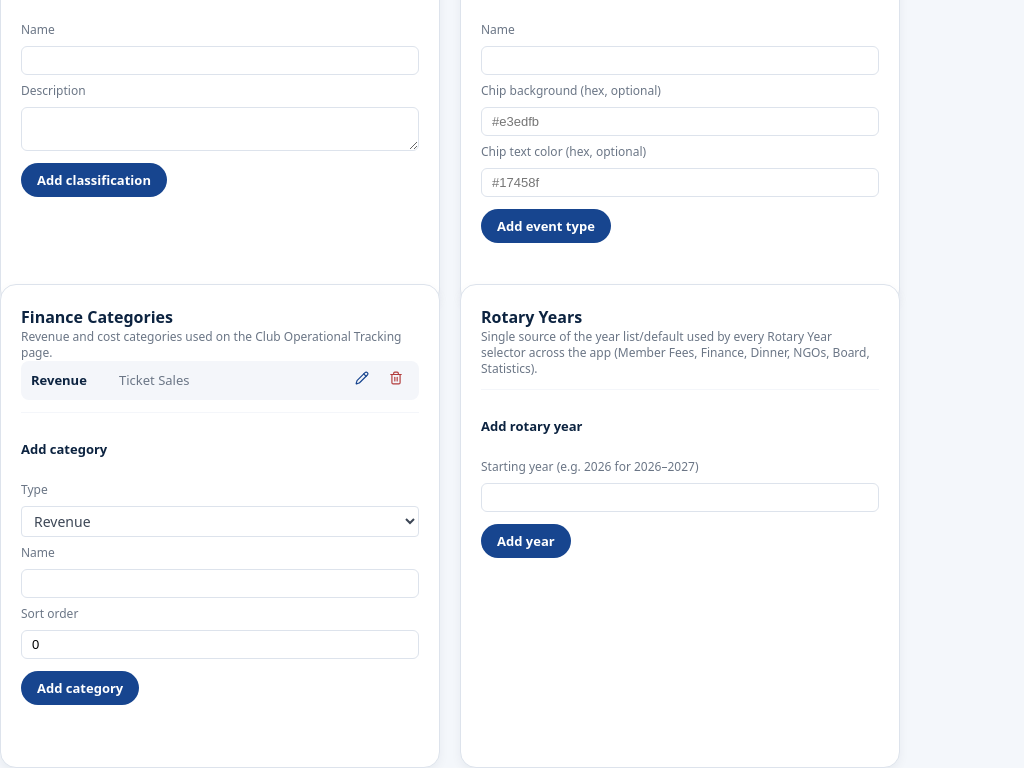
Test: ReferenceLists › Finance Categories card › lists categories and creates a new one
This screenshot has width=1024, height=768.
(page scrolled)
Expected: the text "Ticket Sales" is shown, left=119, top=371, right=190, bottom=389
Select "Cost" in the dropdown labelled "Type" at (220, 522), box left=21, top=506, right=419, bottom=537
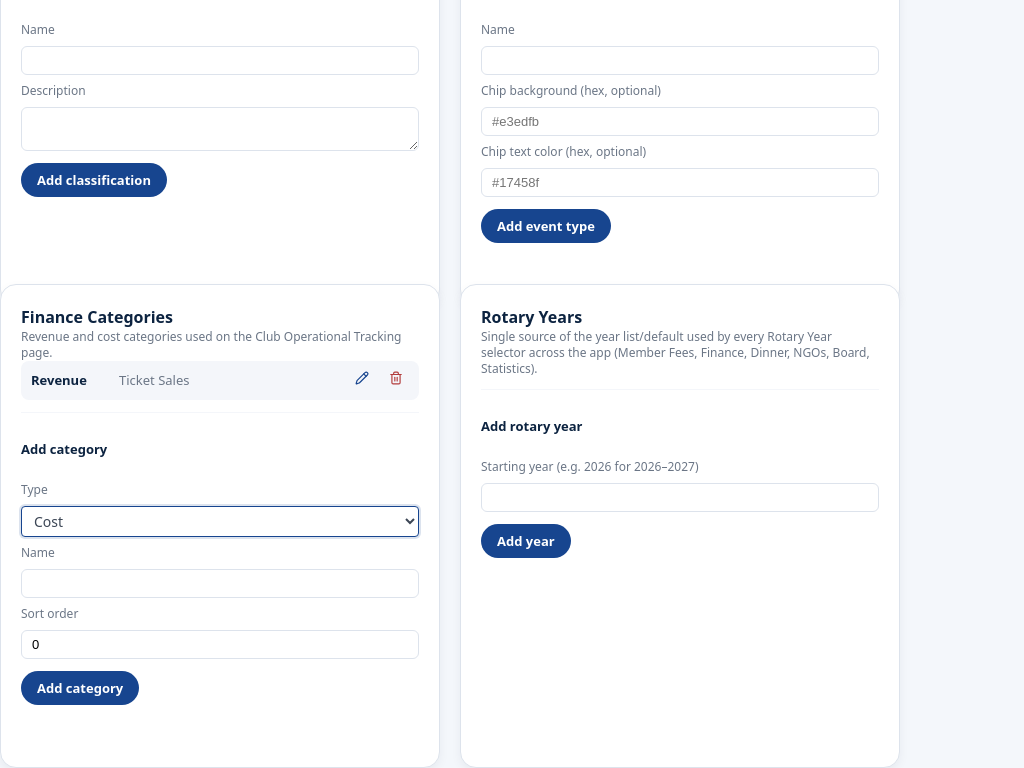
Type "Venue Rental" into the field labelled "Name" below "Ticket Sales" at (220, 584), box left=21, top=569, right=419, bottom=598
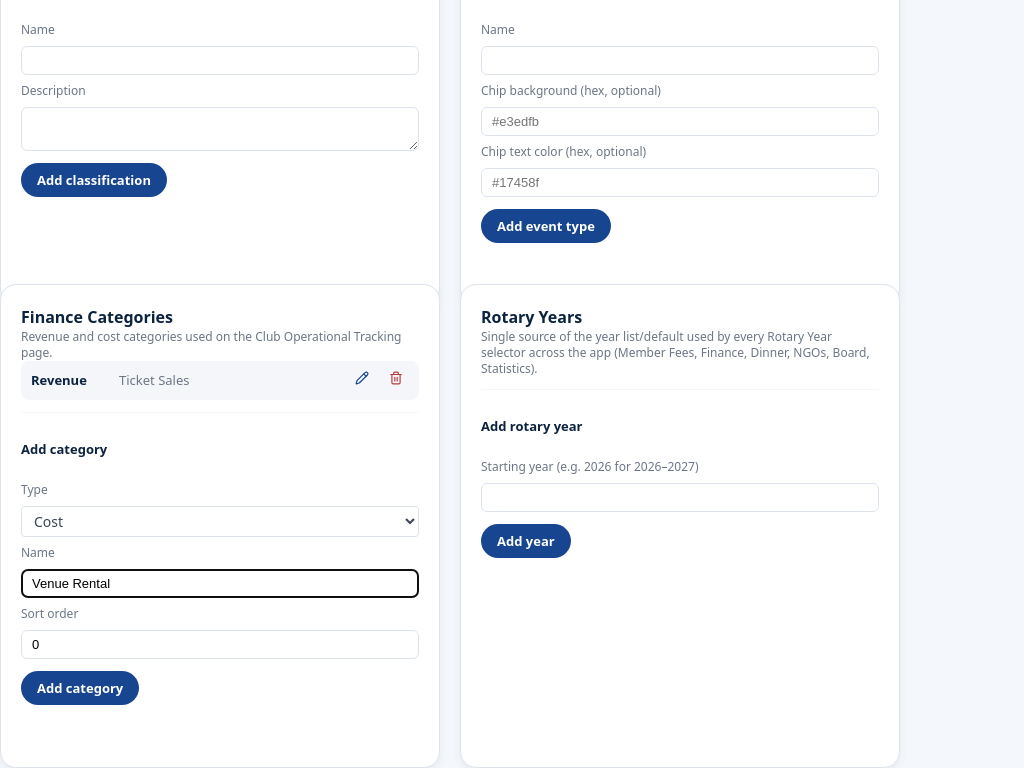
Click the button "Add category" at (80, 688), box left=21, top=671, right=139, bottom=705
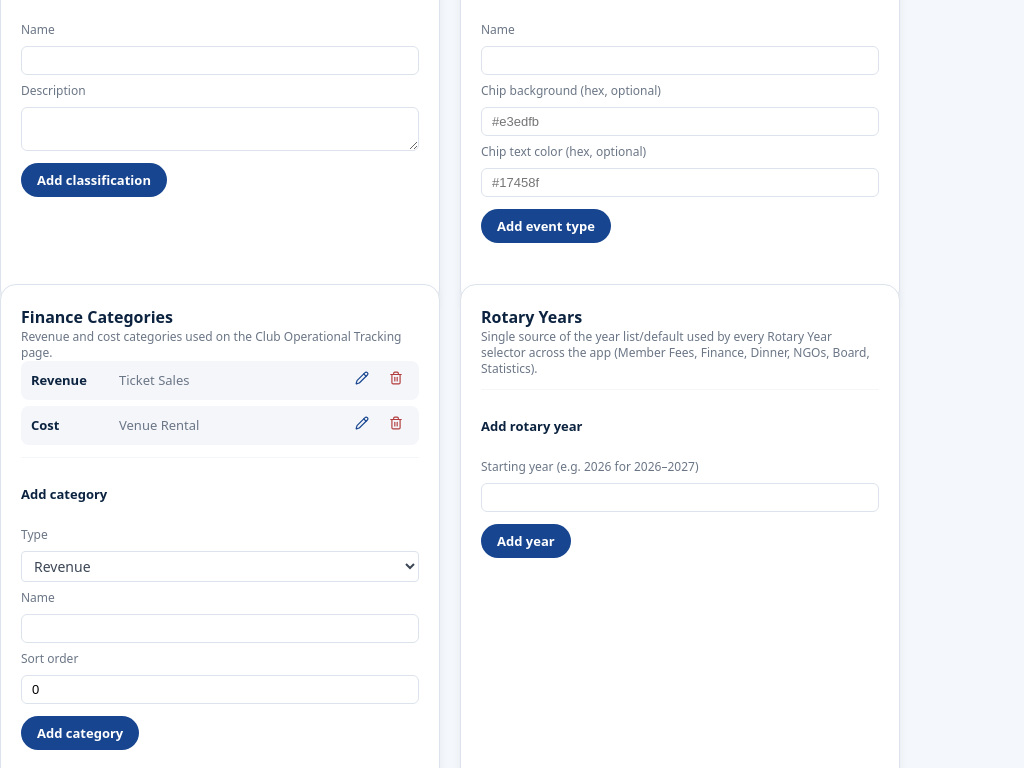
Now the text "Venue Rental" is shown, box left=119, top=416, right=200, bottom=434
